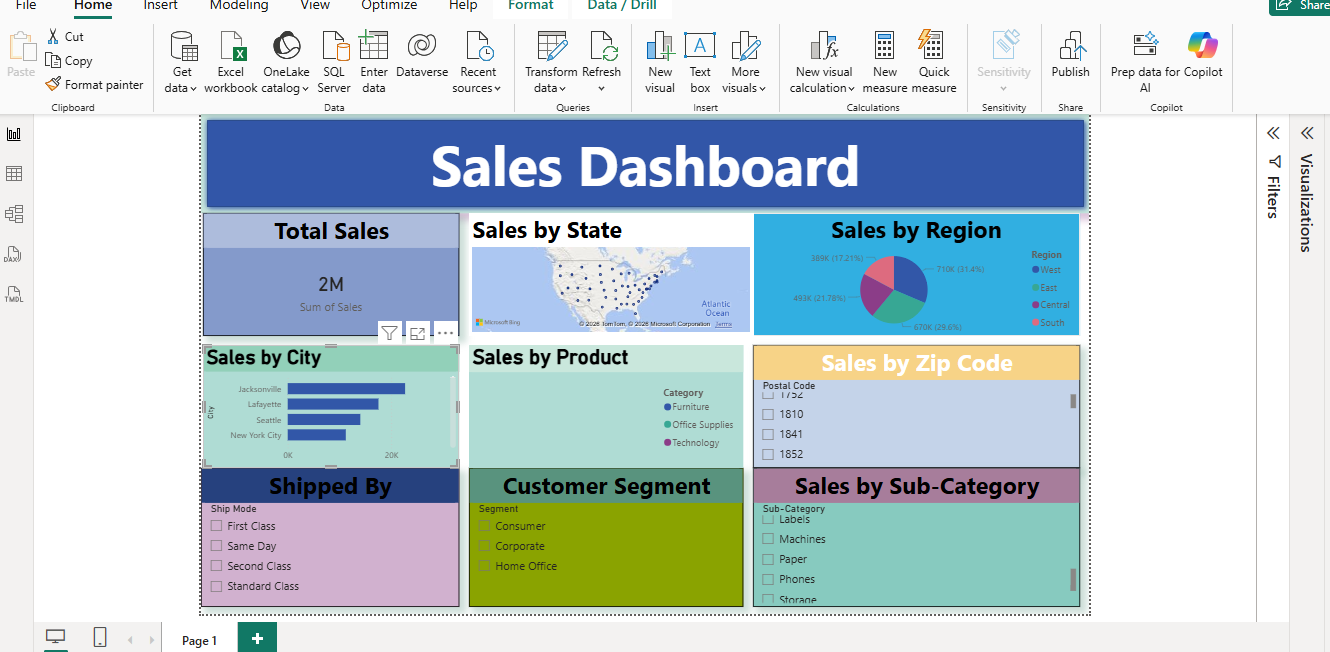

This screenshot's page, from the dashboard's own definition file:
{"tool":"powerbi","page":{"name":"Page 1","canvas":[1280,720],"ordinal":0},"visuals":[{"type":"shape","box":[0,0,1280.2,142.6],"z":0},{"type":"pieChart","title":"Sales by Region","fields":{"Category":["Sales Report (2).Region"],"Y":["Sum(Sales Report (2).Sales)"]},"box":[794.9,142.6,470.9,177.1],"z":1000},{"type":"card","title":"Total Sales","fields":{"Values":["Sum(Sales Report (2).Sales)"]},"box":[2.9,142.6,368.6,177.1],"z":2000},{"type":"slicer","title":"Sales by Zip Code","fields":{"Values":["Sales Report (2).Postal Code"]},"box":[794.9,332.6,470.9,177.1],"z":4000},{"type":"slicer","title":"Shipped By","fields":{"Values":["Sales Report (2).Ship Mode"]},"box":[0,509.8,371.5,200.2],"z":5000},{"type":"slicer","title":"Customer Segment","fields":{"Values":["Sales Report (2).Segment"]},"box":[385.9,509.8,394.6,200.2],"z":6000},{"type":"slicer","title":"Sales by Sub-Category","fields":{"Values":["Sales Report (2).Sub-Category"]},"box":[794.9,509.8,470.9,200.2],"z":7000},{"type":"donutChart","title":"Sales by Product","fields":{"Category":["Sales Report (2).Category"]},"box":[386,333,395,177],"z":8000},{"type":"map","title":"Sales by State","fields":{"Category":["Sales Report (2).State"]},"box":[385.9,142.6,409,177.1],"z":9000},{"type":"clusteredBarChart","title":"Sales by City","fields":{"Category":["Sales Report (2).City"],"Y":["Max(Sales Report (2).Sales)"]},"box":[3,333,369,177],"z":9001}]}

Visuals, with their boxes on the page's 1280x720 design canvas (x1, y1, x2, y2). These are canvas units, not pixel positions in the 1330x652 screenshot, which may show the page scaled, cropped or inside an application window:
shape: {"left": 0, "top": 0, "right": 1280, "bottom": 143}
"Sales by Region" pieChart: {"left": 795, "top": 143, "right": 1266, "bottom": 320}
"Total Sales" card: {"left": 3, "top": 143, "right": 372, "bottom": 320}
"Sales by Zip Code" slicer: {"left": 795, "top": 333, "right": 1266, "bottom": 510}
"Shipped By" slicer: {"left": 0, "top": 510, "right": 372, "bottom": 710}
"Customer Segment" slicer: {"left": 386, "top": 510, "right": 780, "bottom": 710}
"Sales by Sub-Category" slicer: {"left": 795, "top": 510, "right": 1266, "bottom": 710}
"Sales by Product" donutChart: {"left": 386, "top": 333, "right": 781, "bottom": 510}
"Sales by State" map: {"left": 386, "top": 143, "right": 795, "bottom": 320}
"Sales by City" clusteredBarChart: {"left": 3, "top": 333, "right": 372, "bottom": 510}
